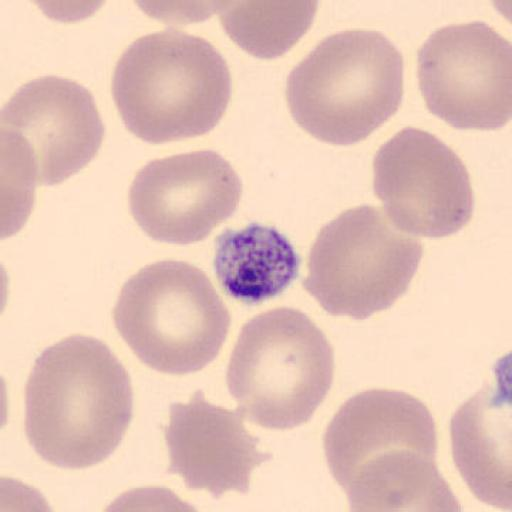Platelet: (210, 220, 303, 306)
RBC: (24, 332, 134, 473), (109, 25, 234, 147), (110, 257, 233, 378), (302, 202, 426, 322), (284, 27, 406, 148), (225, 303, 335, 433), (320, 386, 438, 505), (370, 124, 476, 240), (126, 147, 245, 248), (2, 73, 106, 188), (414, 19, 512, 133), (164, 393, 266, 500), (343, 448, 464, 512), (448, 392, 512, 512), (212, 0, 321, 62), (2, 127, 38, 243), (94, 484, 210, 512), (127, 0, 235, 25), (26, 0, 113, 24), (2, 475, 58, 512), (489, 0, 512, 45), (0, 361, 11, 443), (0, 249, 11, 327), (488, 0, 512, 24)
